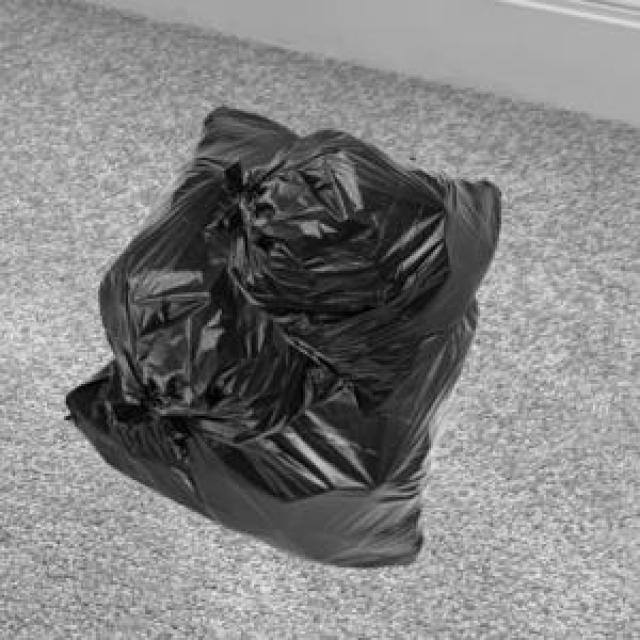miscellaneous trash: (62, 292, 474, 563), (94, 102, 341, 461), (201, 126, 497, 414)
